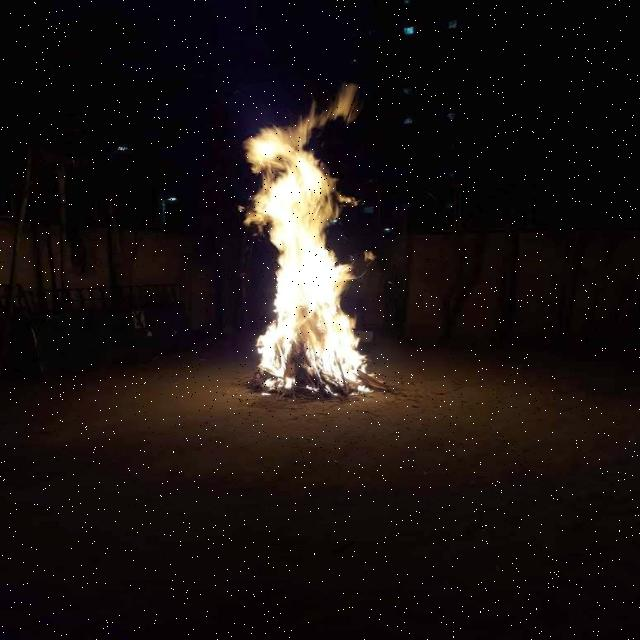fire: (245, 86, 388, 411)
